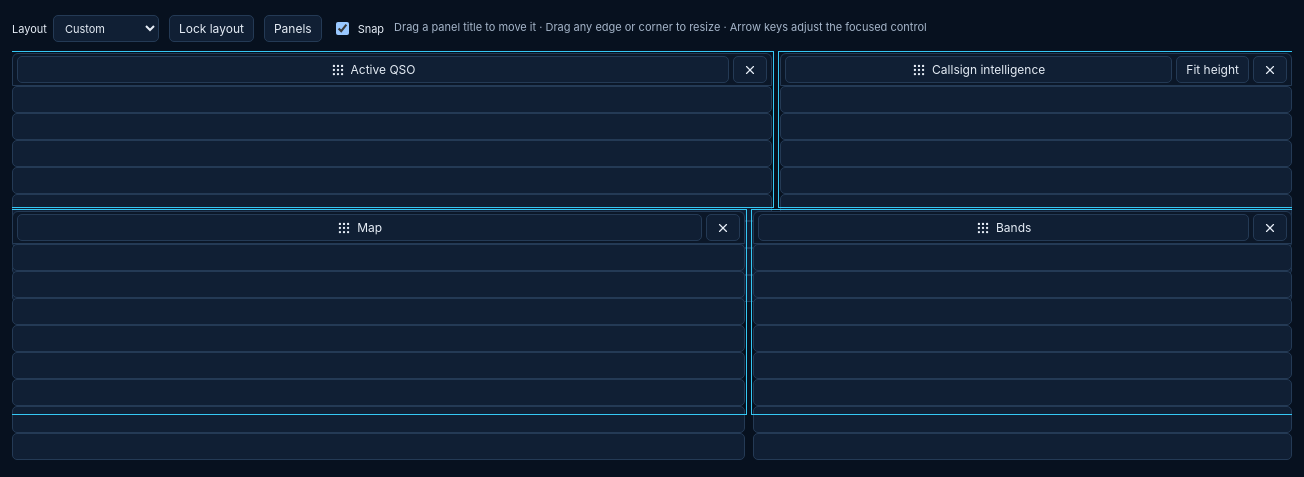
Test: makes every panel movable and resizable in Arrange mode while global Lock removes every handle
Press the mouse on the button with aria-label "Move Active QSO" at (373, 70), box [17,56,729,83]
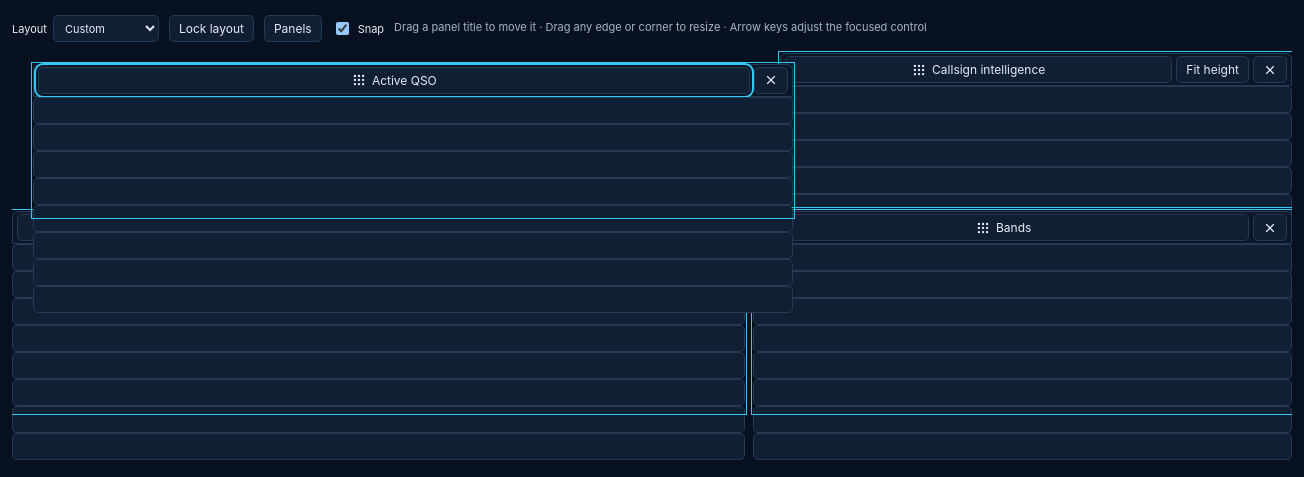
Click the button "Lock layout" at (211, 28), box [169,15,254,42]
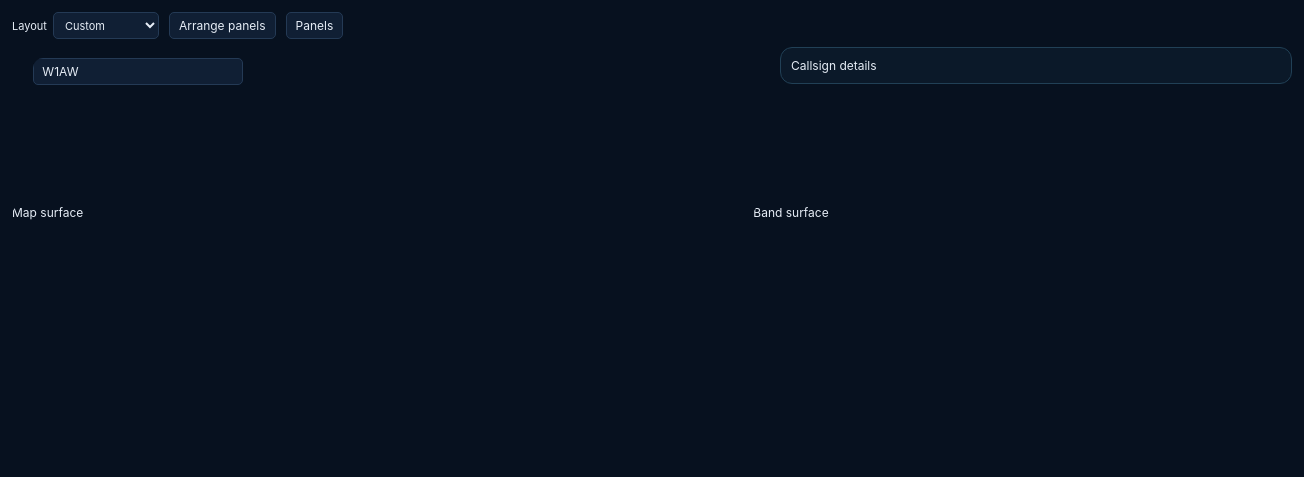
Check: the button "Arrange panels" is shown
Check: the message "resize " is gone
Click the button "Arrange panels" at (222, 26), box [169,12,276,39]
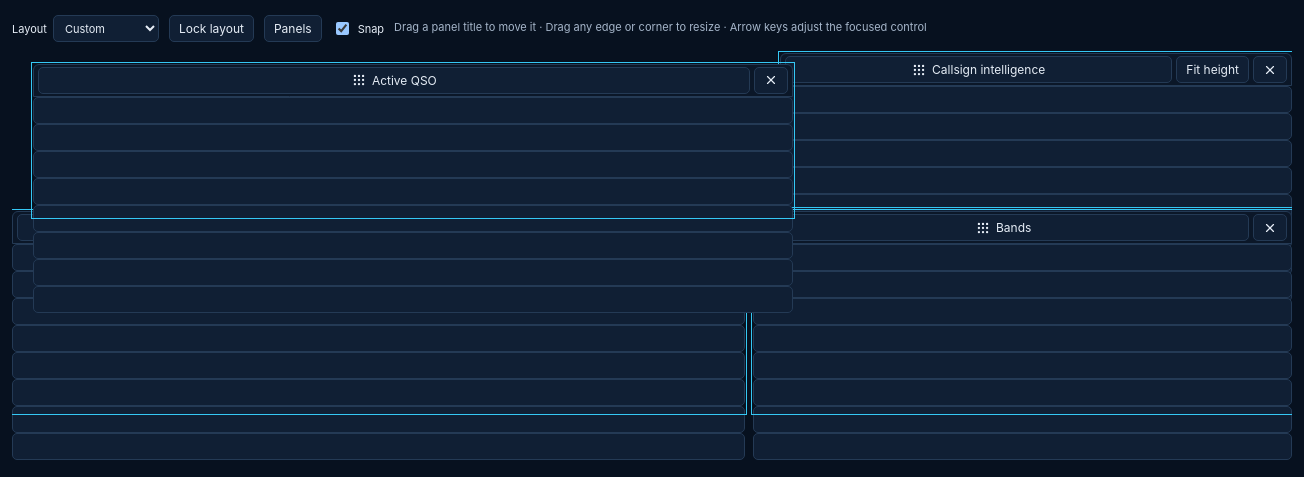
Check: the button with aria-label "Move Active QSO" is shown, box [38,67,750,94]
Check: the number of buttons named "Resize Active QSO" is 8
